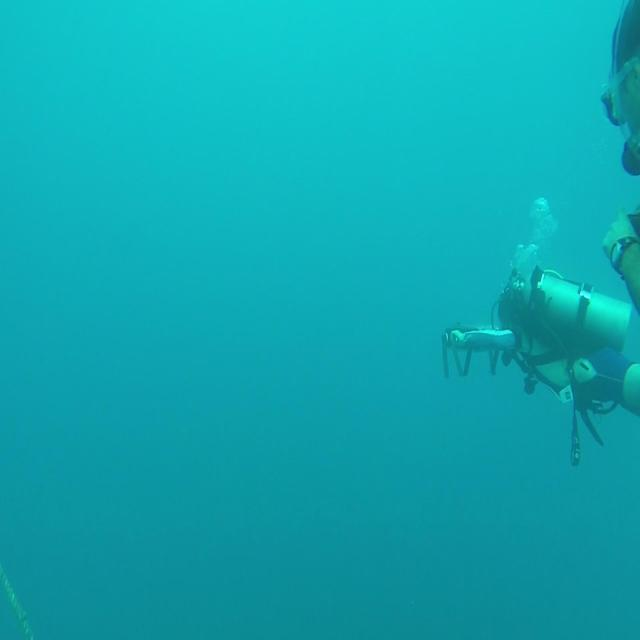human: (600, 0, 639, 316)
